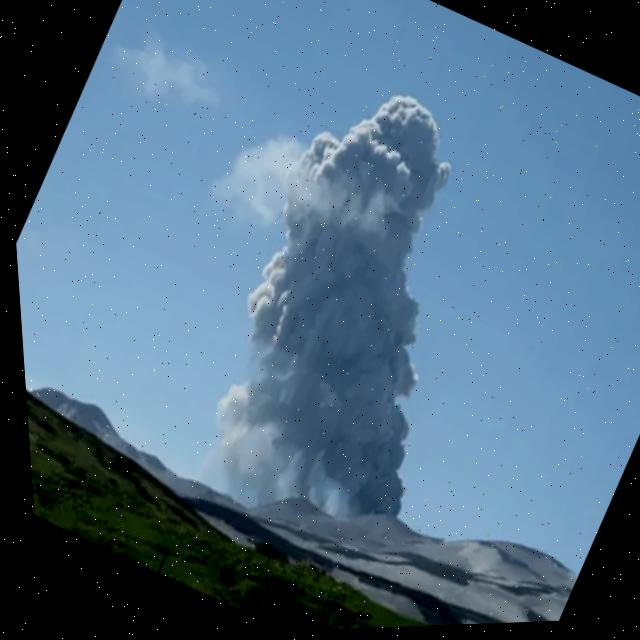Smoke: (145, 61, 569, 554)
